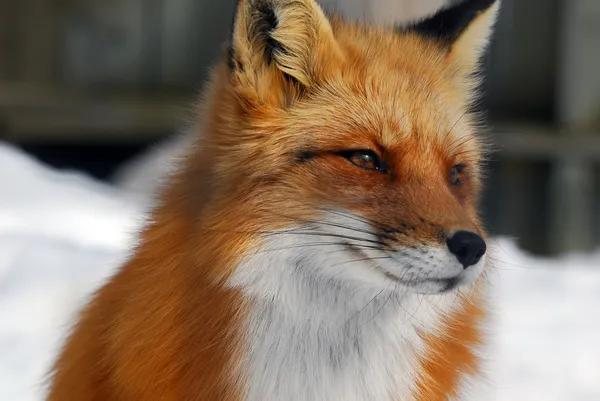fox: (56, 0, 514, 401)
